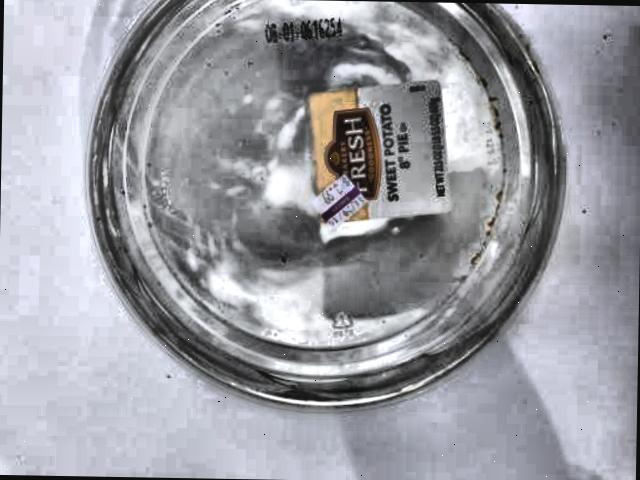Plastic: (59, 5, 596, 435)
